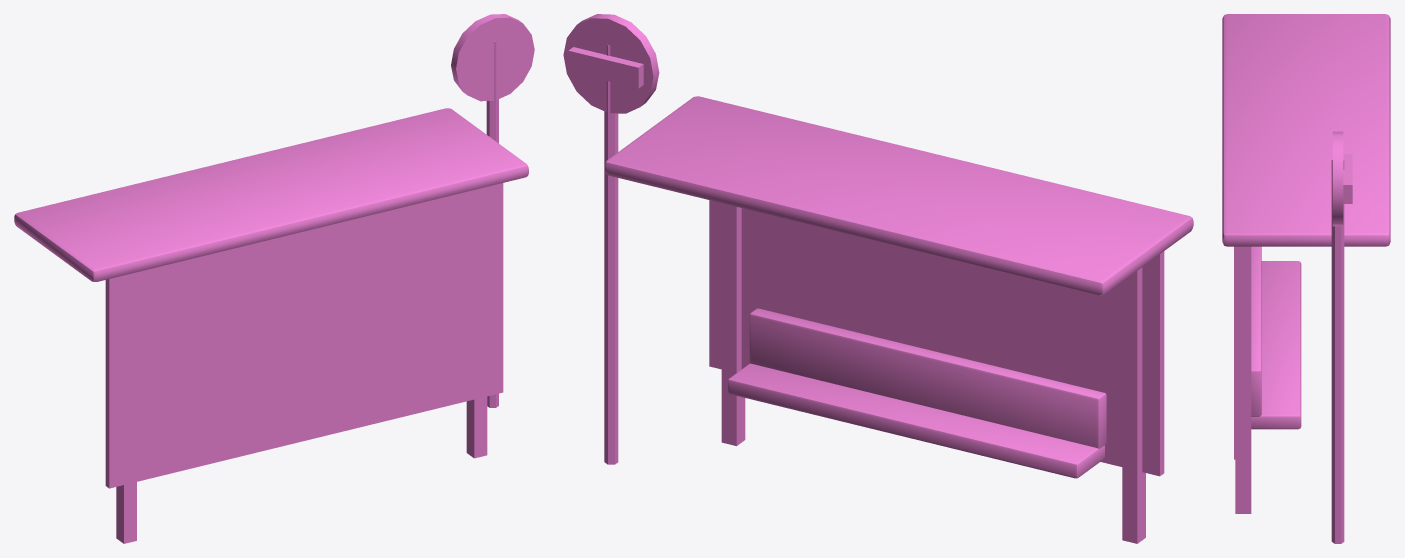
Rendered from Street_BusStop.fbx.
3 views of the same model, side by side, from view 1: azimuth 30°, elevation 25°; view 2: azimuth 150°, elevation 25°; view 3: azimuth 270°, elevation 25° (orthographic). The views are drawn at different scales.
Visible parts, largest first — view 1: BusStop; view 2: BusStop; view 3: BusStop.
Part boxes in pixels (x1=…): BusStop: x1=14, y1=14, x2=534, y2=543; BusStop: x1=563, y1=14, x2=1193, y2=543; BusStop: x1=1222, y1=14, x2=1390, y2=543.
Bounding box in the file's own units: 11.3 × 8.5 × 3.2.
Materials: 1 (1 with a texture image).
